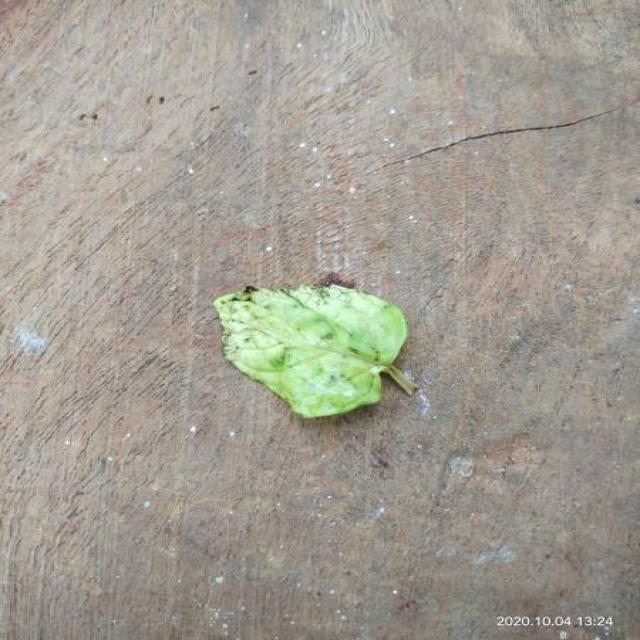mint: (213, 285, 417, 418)
